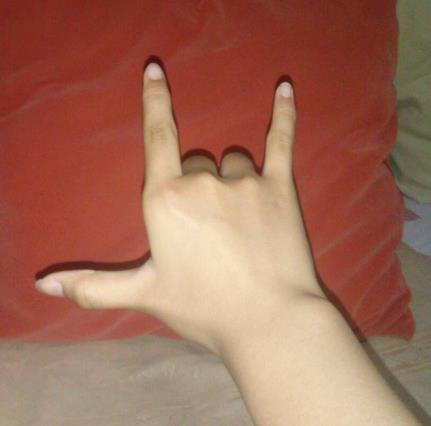back: (32, 49, 322, 318)
